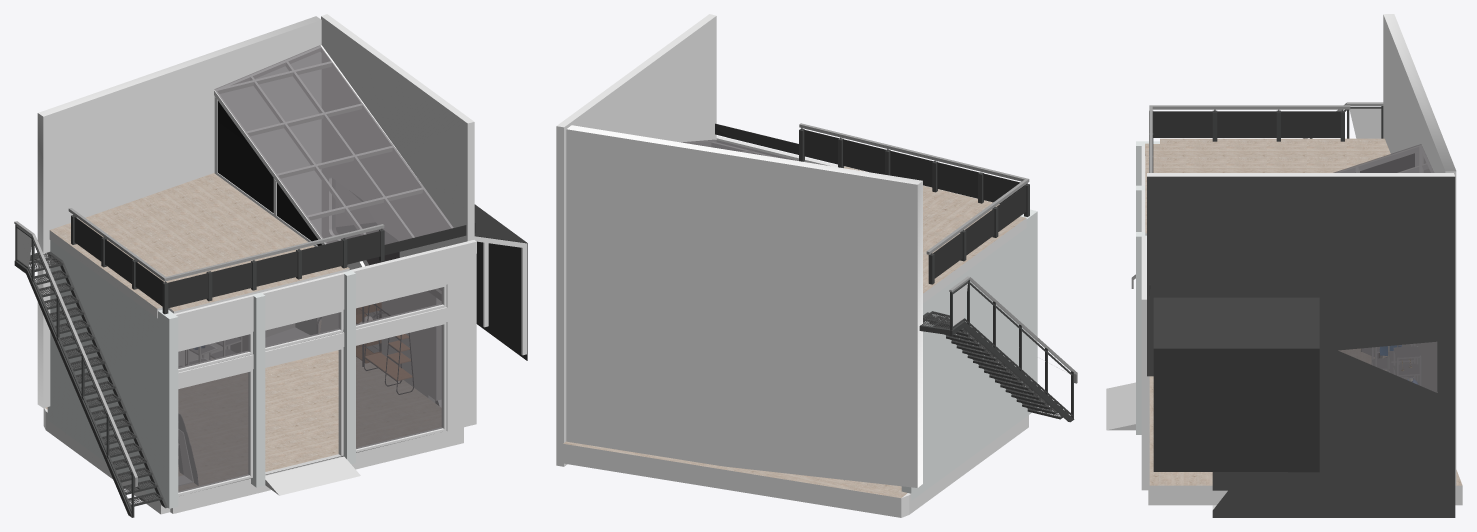
File: Indibiz V3.fbx
3 views of the same model, side by side, from view 1: azimuth 30°, elevation 25°; view 2: azimuth 150°, elevation 25°; view 3: azimuth 270°, elevation 25° (orthographic). The views are drawn at different scales.
Visible parts, largest first — view 1: TEMBOK INDIBIZ.001, KacaIndi, a lantai, Atap.002, Atap, a tangga, a Falfon, rak baju, Plane.007, MEJA, rak, RAK BARANMG; view 2: TEMBOK INDIBIZ.001, Atap, a lantai, a tangga, Atap.002; view 3: TEMBOK INDIBIZ.001, a Falfon, Atap.002, Atap, KacaIndi, a lantai, a tangga, rak.
Boxes of the visible parts, <box> form: TEMBOK INDIBIZ.001: <box>37,14,476,508</box>; KacaIndi: <box>178,45,453,492</box>; a lantai: <box>43,321,463,514</box>; Atap.002: <box>49,173,349,318</box>; Atap: <box>68,208,475,314</box>; a tangga: <box>14,221,167,517</box>; a Falfon: <box>474,204,527,360</box>; rak baju: <box>364,304,413,394</box>; Plane.007: <box>178,414,198,485</box>; MEJA: <box>230,318,318,352</box>; rak: <box>178,336,241,366</box>; RAK BARANMG: <box>356,303,381,366</box>; TEMBOK INDIBIZ.001: <box>556,14,1037,500</box>; Atap: <box>715,123,1029,284</box>; a lantai: <box>563,415,1028,517</box>; a tangga: <box>919,276,1077,422</box>; Atap.002: <box>844,166,1026,303</box>; TEMBOK INDIBIZ.001: <box>1106,14,1456,517</box>; a Falfon: <box>1153,297,1319,472</box>; Atap.002: <box>1145,138,1390,235</box>; Atap: <box>1149,105,1350,295</box>; KacaIndi: <box>1333,144,1437,392</box>; a lantai: <box>1148,349,1462,505</box>; a tangga: <box>1131,102,1383,288</box>; rak: <box>1372,344,1420,385</box>.
Bounding box in the file's own units: 890 × 688 × 651.
Materials: 64 (11 with a texture image).
